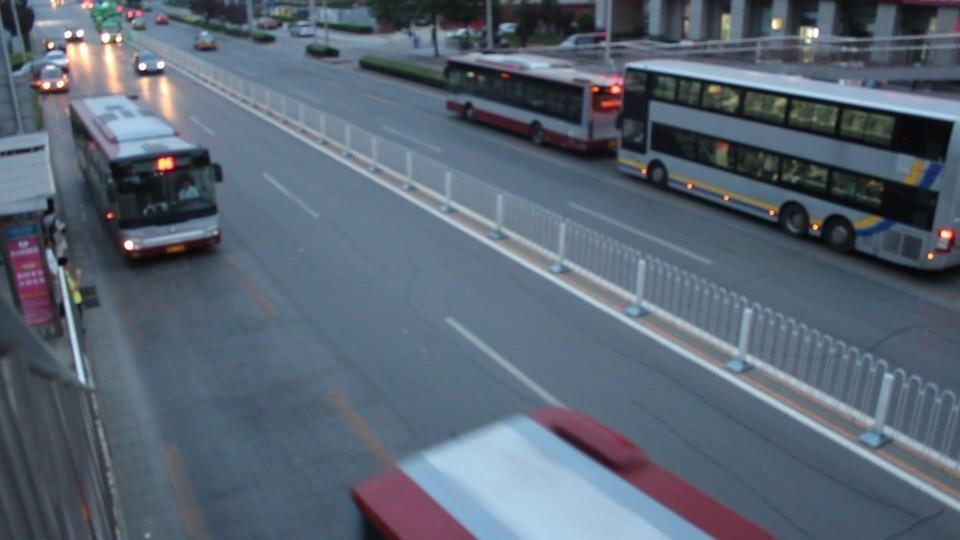car: (347, 403, 770, 537), (30, 59, 71, 94), (556, 32, 608, 54), (131, 51, 167, 75), (193, 31, 220, 52), (288, 22, 317, 38)
